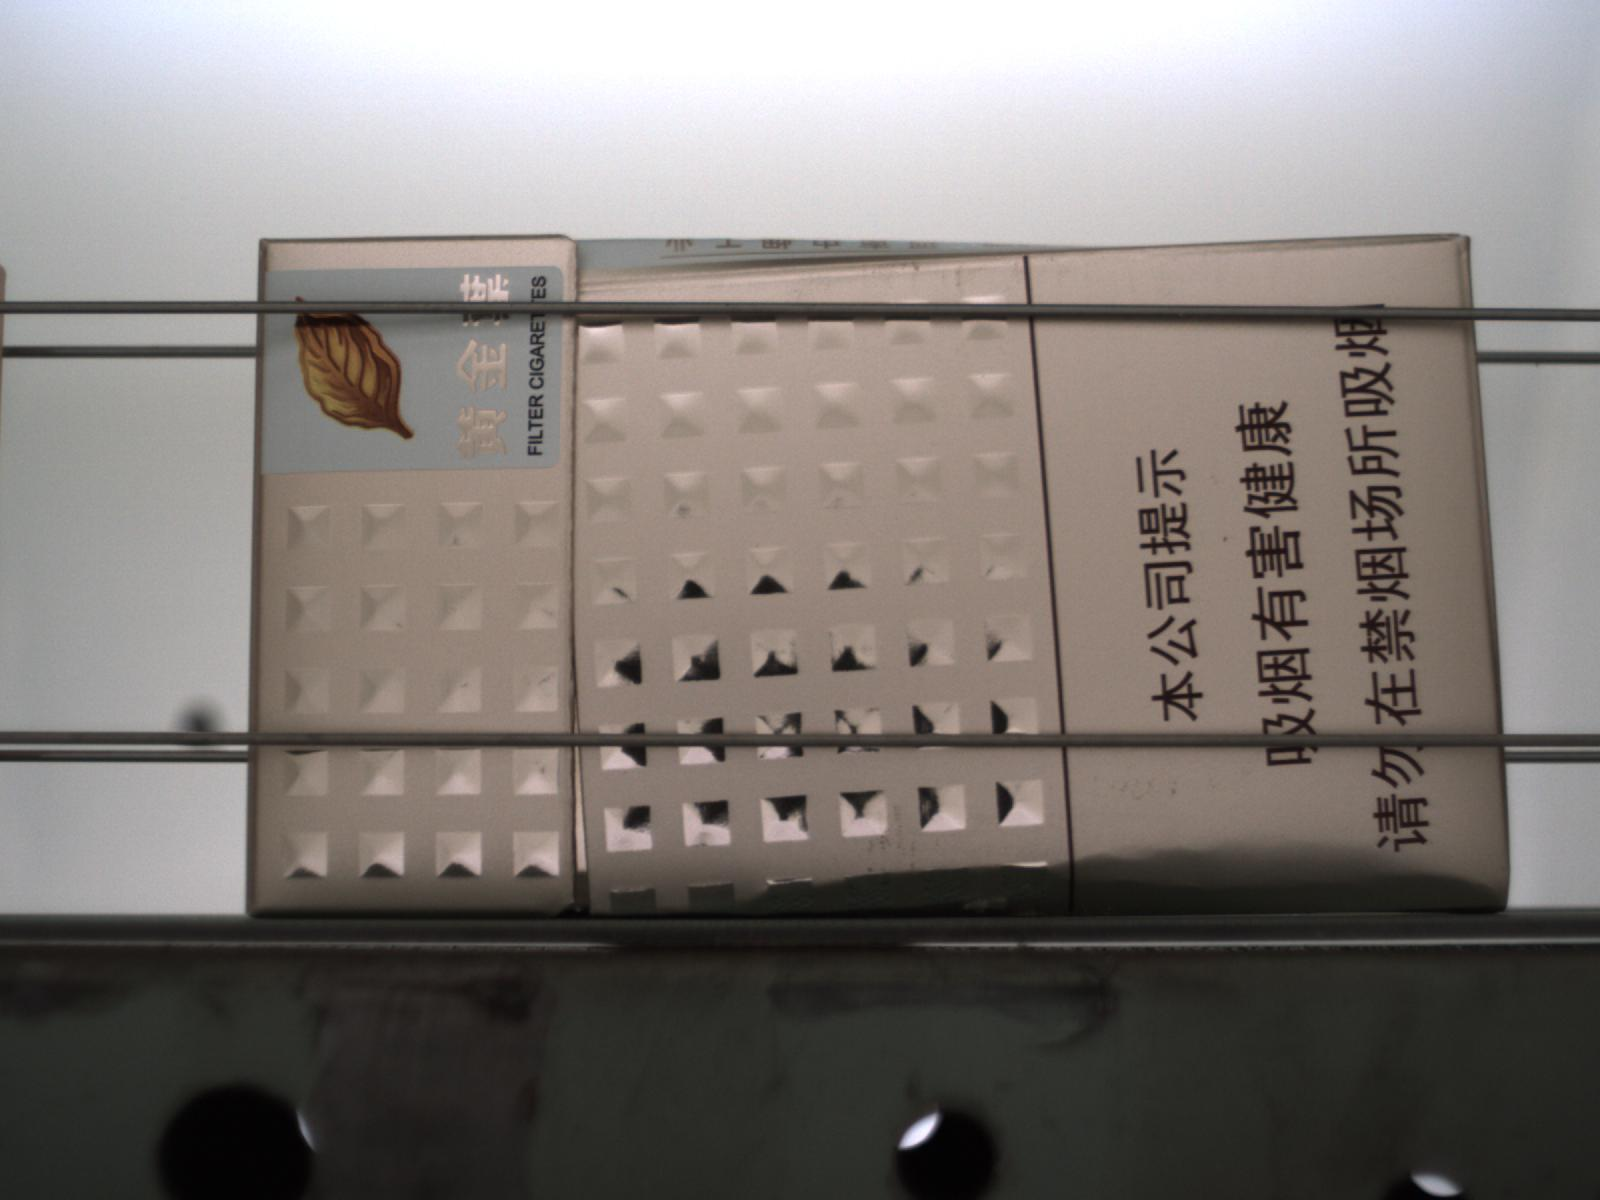boxDamage_slight: (587, 839, 1519, 918)
dirtySpot: (1221, 534, 1231, 545)
gumDirt: (1087, 766, 1209, 809), (866, 805, 922, 874)
skewedOpen: (564, 608, 595, 919)
skewed_upper_0: (566, 236, 1054, 299)
